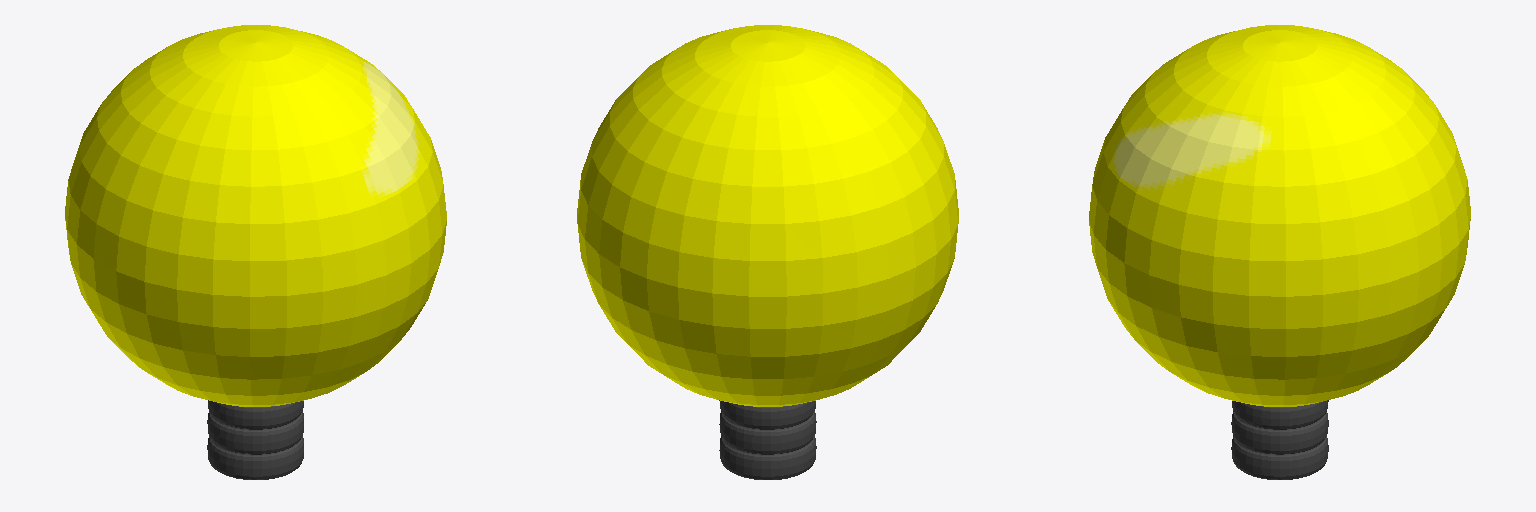
3 renders of one model, left to right at view 1: azimuth 30°, elevation 25°; view 2: azimuth 150°, elevation 25°; view 3: azimuth 270°, elevation 25°, orthographic.
Visible parts, largest first — view 1: Bulb.On; view 2: Bulb.On; view 3: Bulb.On.
Boxes of the visible parts, <box> form: Bulb.On: <box>65,25,446,479</box>; Bulb.On: <box>577,25,958,479</box>; Bulb.On: <box>1089,25,1470,479</box>.
Size of the model in its own units: 0.9067 by 1.12 by 0.9067.
Materials: 1 (1 with a texture image).